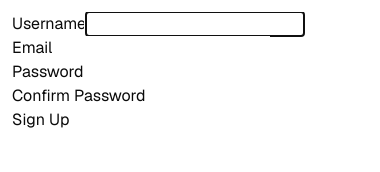
Test: SignUpForm Email Validation › shows error when email is already registered
This screenshot has width=380, height=172.
Type "ValidUser1" into the field labelled "Username" at (195, 24), box [86,12,304,36]
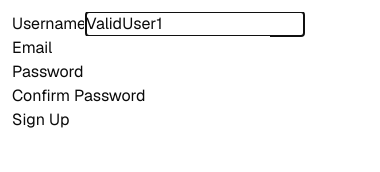
Type "user@example.com" into the field labelled "Email" at (161, 48), box [52,36,270,60]
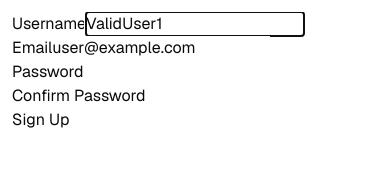
Type "ValidPass123!" into the password field labelled "Password" at (192, 72), box [84,60,302,84]
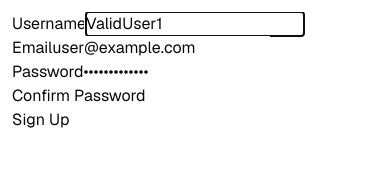
Type "ValidPass123!" into the password field labelled "Confirm Password" at (254, 96), box [146,84,364,108]
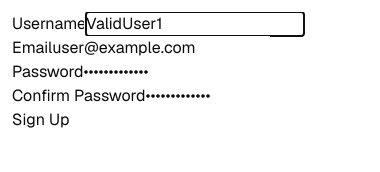
Click the button "Sign Up" at (41, 120), box [12,108,70,132]
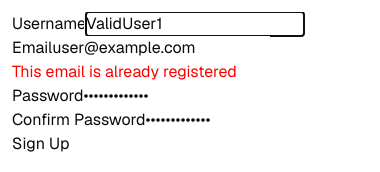
Expected: the text with test id "email-taken-error" reads "This email is already registered", [12,61,237,82]
